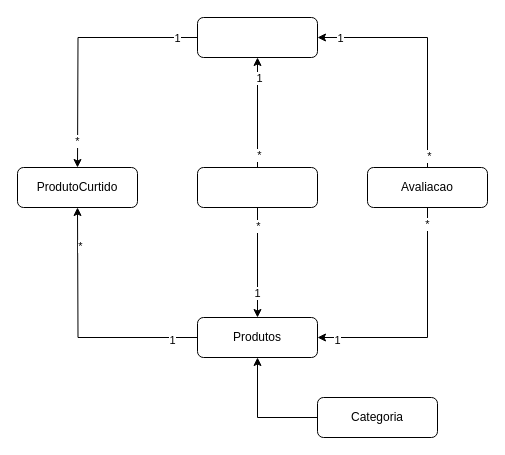
This 505x455 diagram has some shape labels left out. Here are the shapes that lost their labels. From the top down, the centre of each, then its label:
At (x=257, y=37): "Usuario".
At (x=257, y=187): "Compra".
